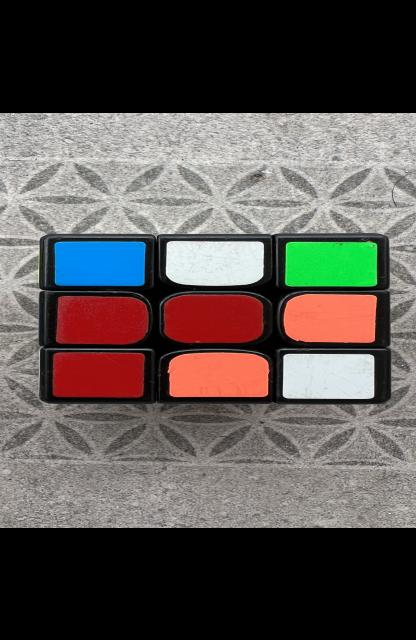Blue: (55, 240, 146, 285)
Green: (285, 241, 378, 286)
Orange: (283, 293, 376, 342), (168, 352, 270, 396)
Red: (165, 293, 263, 342), (56, 296, 148, 344), (53, 352, 145, 396)
White: (166, 240, 265, 285), (283, 352, 375, 398)
